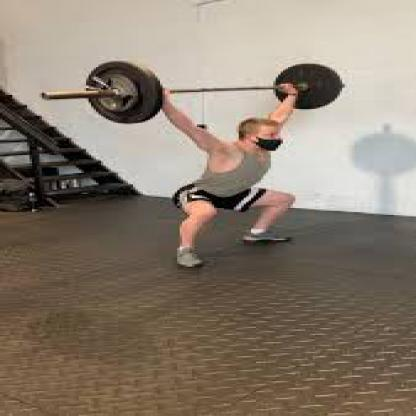Barbell: (70, 51, 180, 128)
